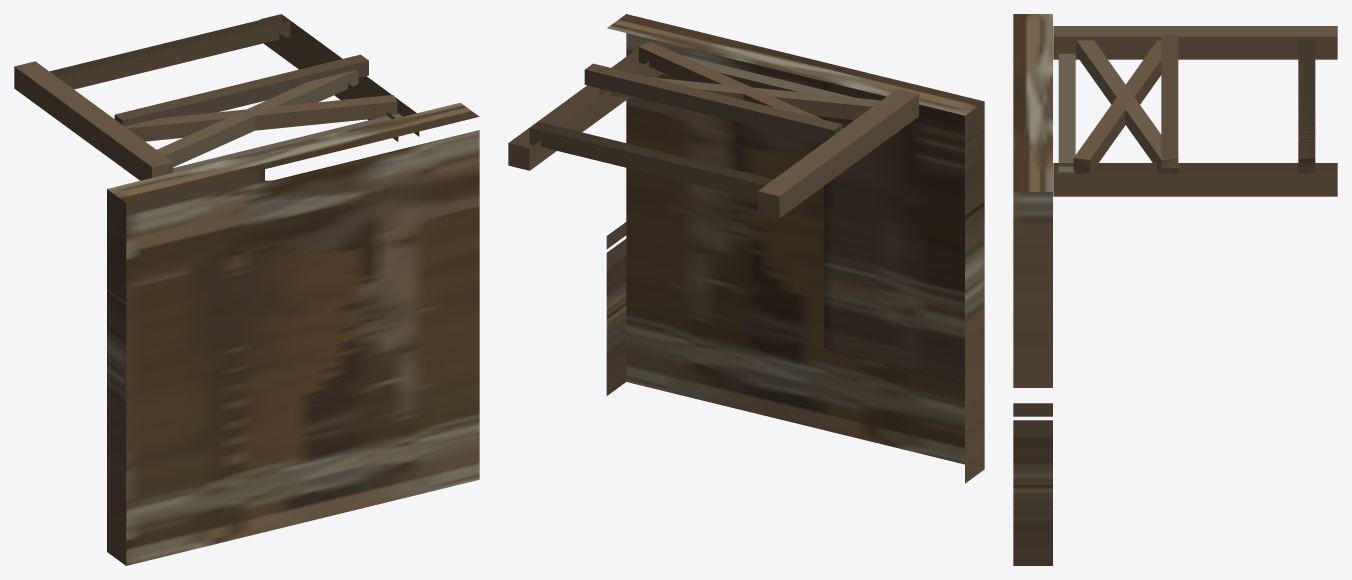
The model's file is section-6.obj.
3 renders of one model, left to right at view 1: azimuth 30°, elevation 25°; view 2: azimuth 150°, elevation 25°; view 3: azimuth 270°, elevation 25°, orthographic. The views are drawn at different scales.
Bounding box in the file's own units: 0.869 × 0.8835 × 0.6695.
